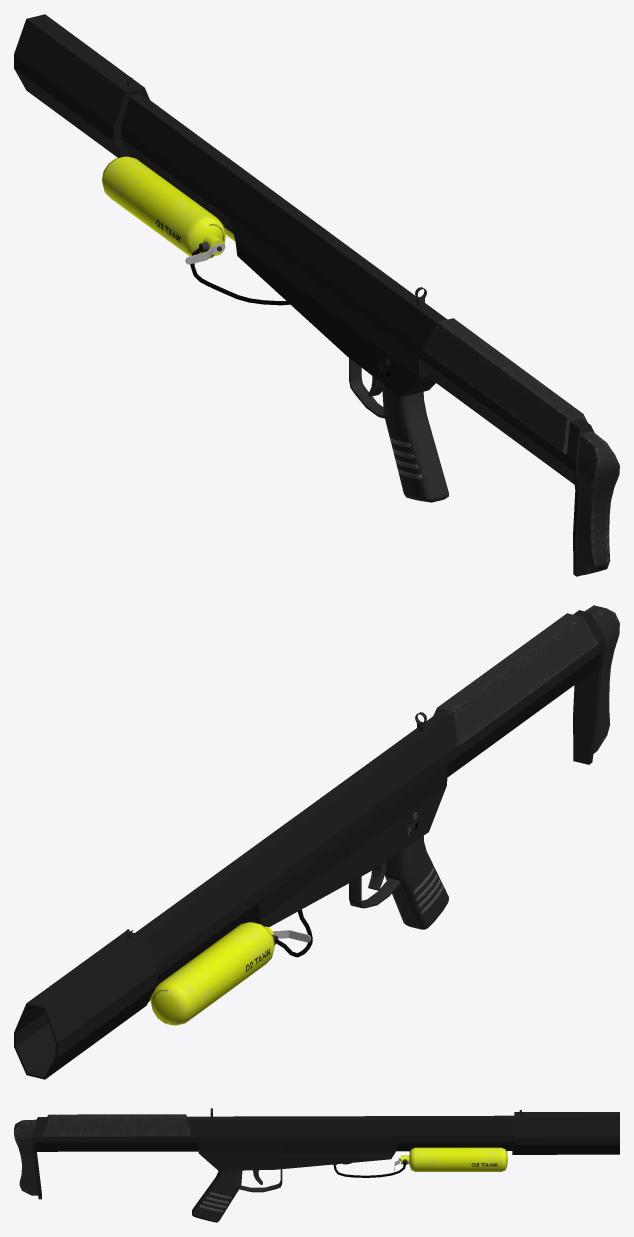
The model's file is harpoon_gun2.fbx.
3 renders of one model, top to bottom at view 1: azimuth 30°, elevation 25°; view 2: azimuth 150°, elevation 25°; view 3: azimuth 270°, elevation 25°, orthographic. The views are drawn at different scales.
Parts seen in each view (by area): view 1: Harpoon_Gun; view 2: Harpoon_Gun; view 3: Harpoon_Gun.
Part boxes in pixels (x1=…): Harpoon_Gun: x1=14, y1=14, x2=619, y2=576; Harpoon_Gun: x1=14, y1=605, x2=619, y2=1079; Harpoon_Gun: x1=14, y1=1108, x2=619, y2=1222.
Bounding box in the file's own units: 4.57 × 6.98 × 34.32.
1 material, 1 textured.
